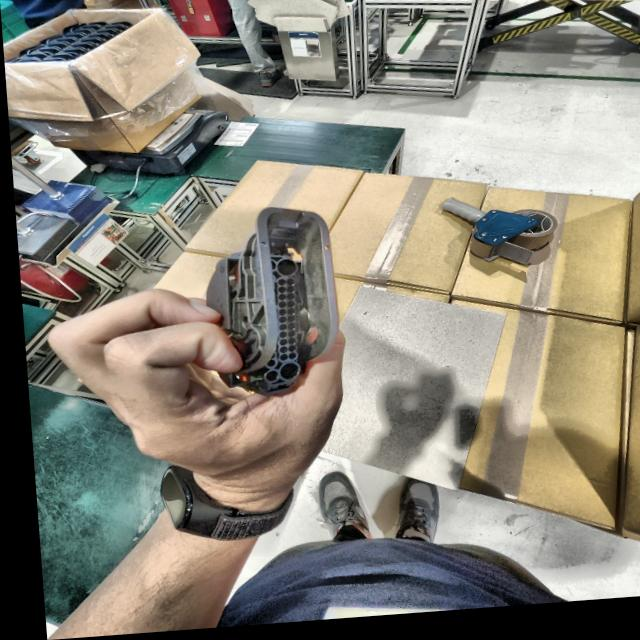P38: (202, 212, 333, 399)
